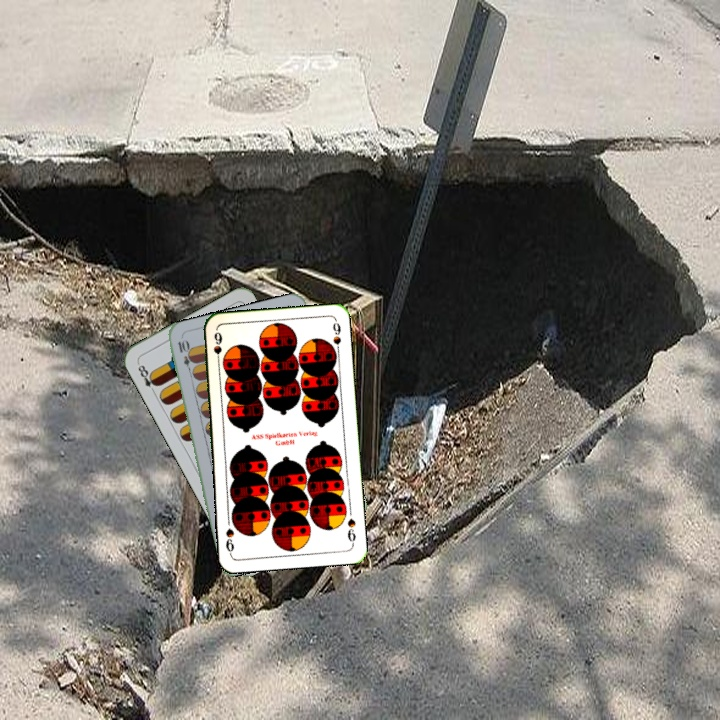E10: (173, 336, 195, 376)
E8: (134, 359, 161, 396)
S9: (210, 328, 225, 368), (343, 514, 358, 547)
